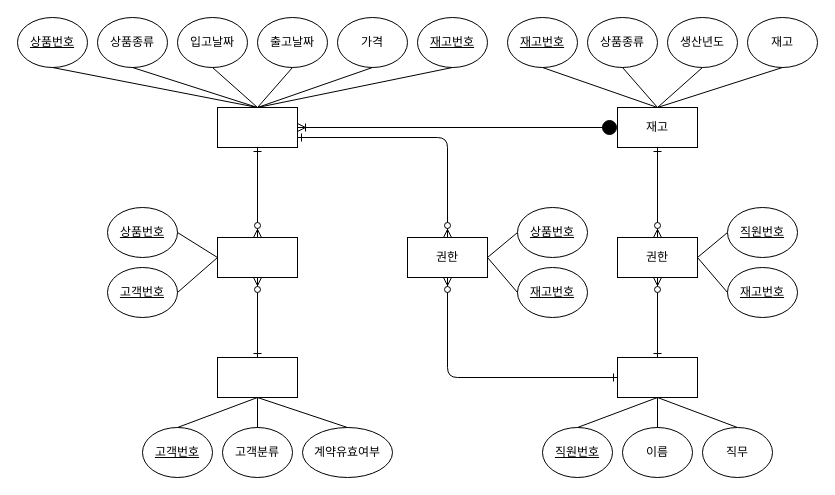
This 835x495 diagram has some shape labels left out. The centre of each missing label's shape, as x and y in pixels:
"고객" belongs at (x=257, y=377).
"상품" belongs at (x=257, y=127).
"직원" belongs at (x=657, y=377).
"판매" belongs at (x=257, y=257).
